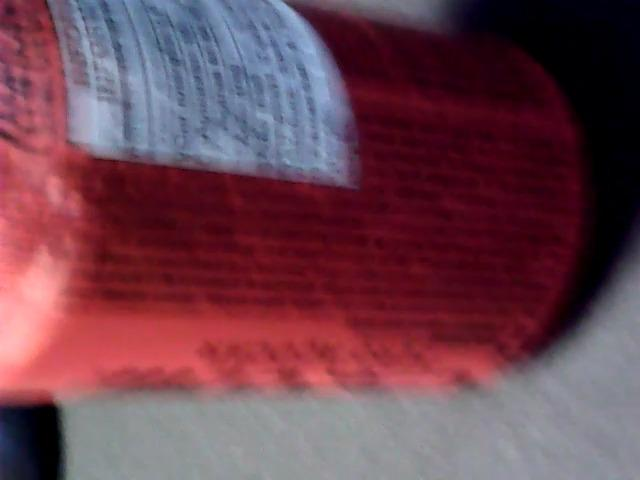coke: (0, 0, 589, 385)
